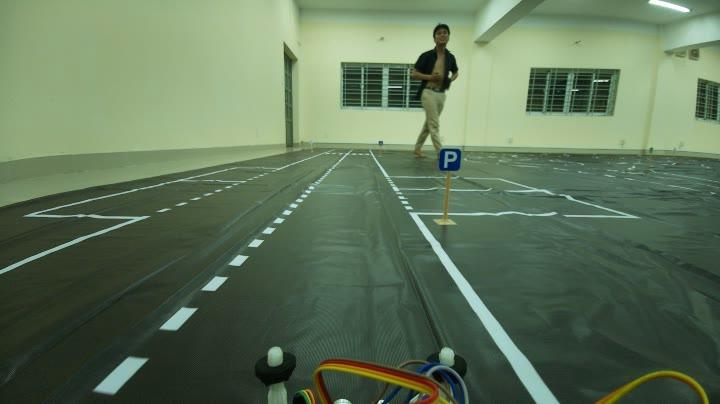parking: (436, 144, 461, 174)
